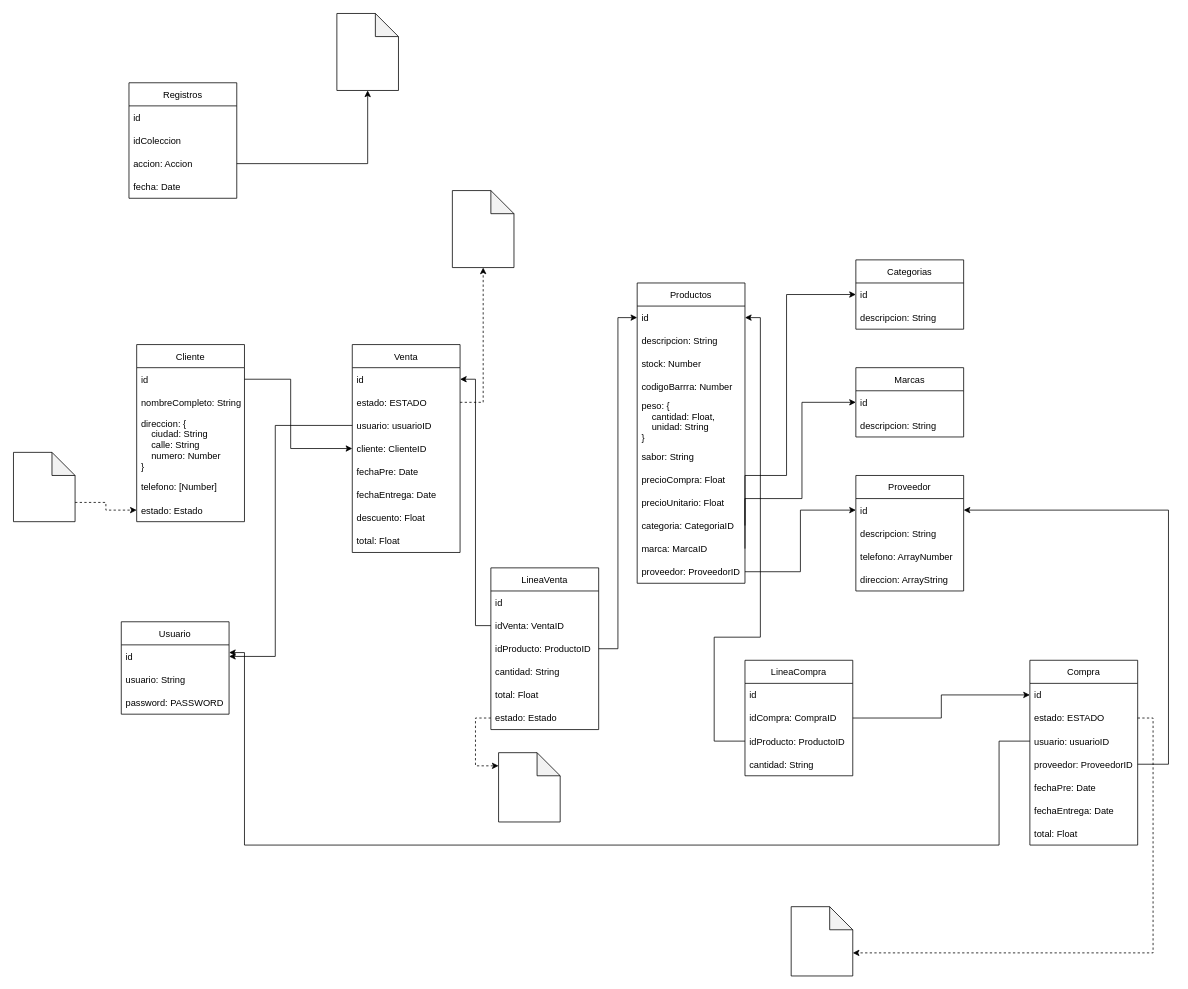
The diagram is 1188 pixels wide and 989 high, and some of its shapes have lost their labels. Here are the shapes that lost their labels. From the top down, the centre of each, then its label:
At (x=367, y=51): "- crear - editar - borrado - estado".
At (x=483, y=229): "- pendiente - armado - entregado - pagado".
At (x=44, y=487): "- en deuda - en forma".
At (x=529, y=787): "- sin entregar - entregado".
At (x=821, y=941): "- en camino - sin controlar - controlado".
